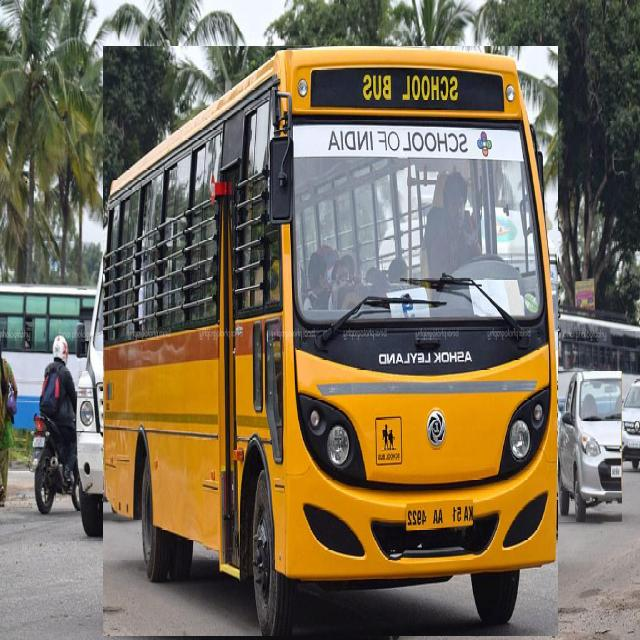bus: (104, 46, 558, 636)
car: (558, 371, 622, 522)
